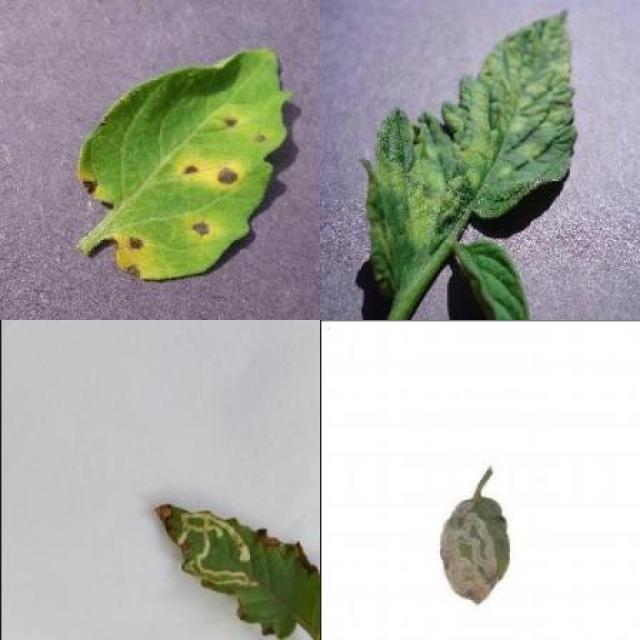Leaf Miner: (151, 503, 320, 640), (436, 495, 508, 605)
Leaf Mold: (364, 10, 576, 289)
Septoria: (80, 50, 286, 279)
